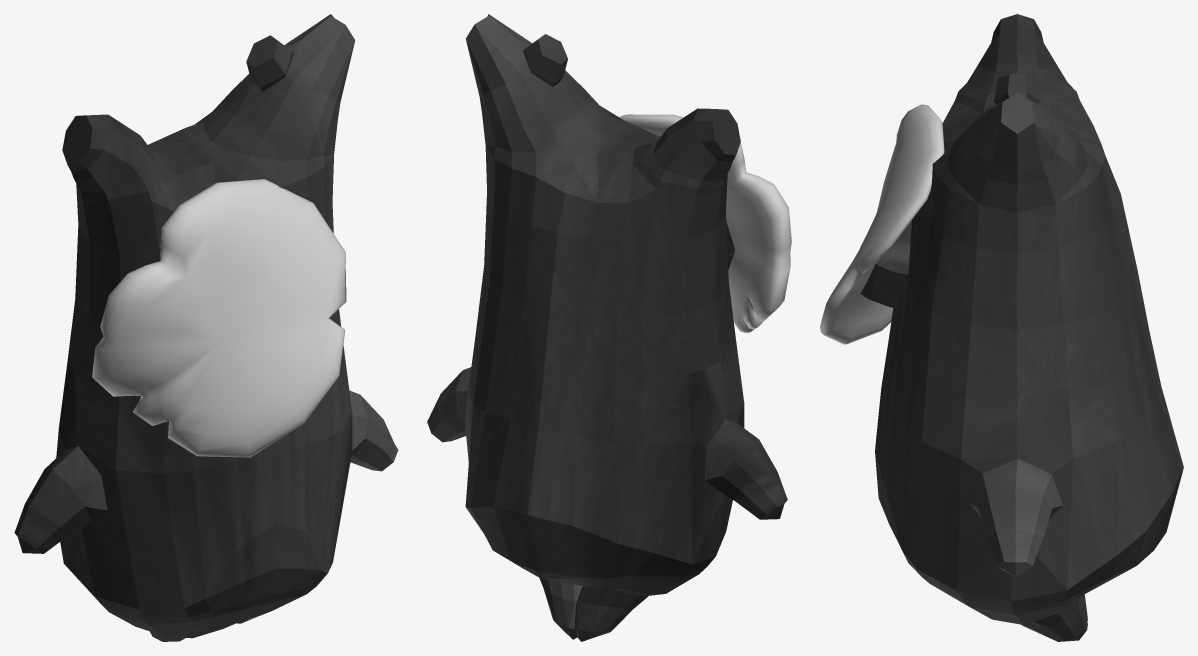
Rendered from frame_0008.obj.
3 renders of one model, left to right at view 1: azimuth 30°, elevation 25°; view 2: azimuth 150°, elevation 25°; view 3: azimuth 270°, elevation 25°, orthographic. The views are drawn at different scales.
Parts seen in each view (by area): view 1: korok, leaf; view 2: korok, leaf; view 3: korok, leaf, nose.
Boxes of the visible parts, x1,y1,x2,y2 form: korok: (14, 14, 398, 641); leaf: (92, 179, 346, 457); korok: (427, 14, 787, 641); leaf: (619, 114, 791, 332); korok: (875, 14, 1183, 641); leaf: (820, 104, 944, 344); nose: (860, 221, 911, 308).
Bounding box in the file's own units: 1.63 × 2.53 × 1.38.
